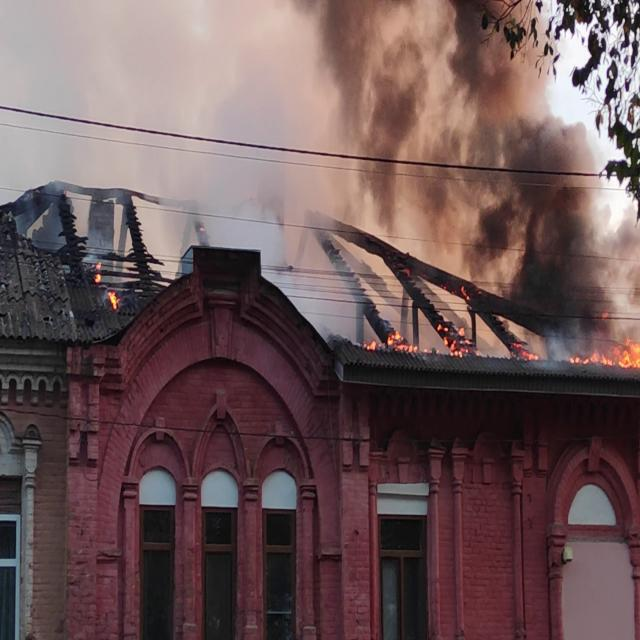fire: (581, 326, 640, 371)
smoke: (462, 38, 596, 312)
